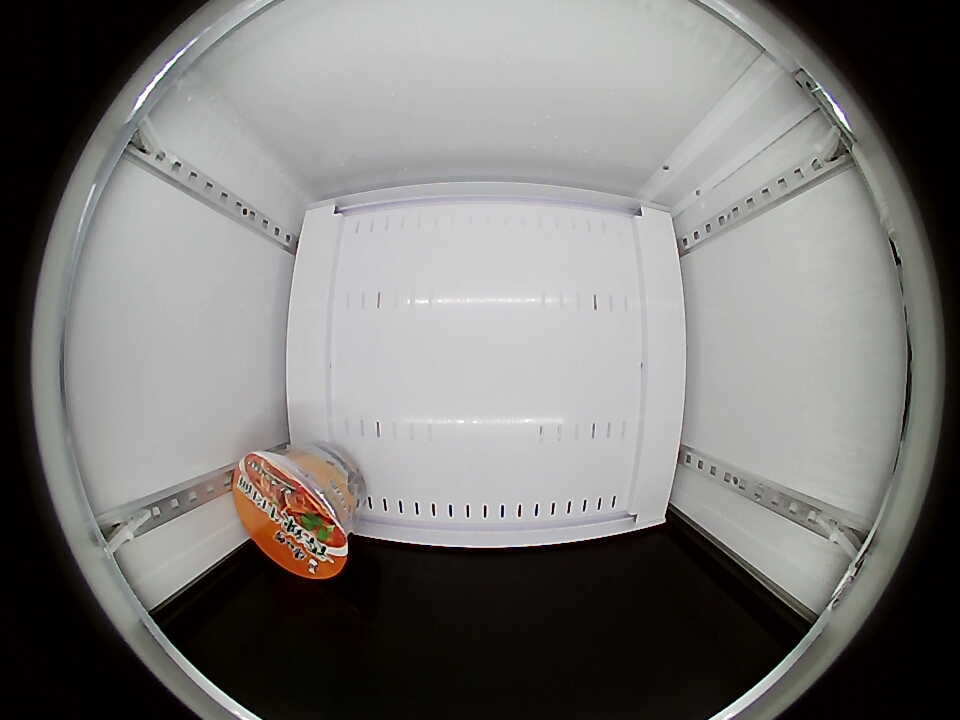xianglaniurou: (233, 451, 351, 579)
